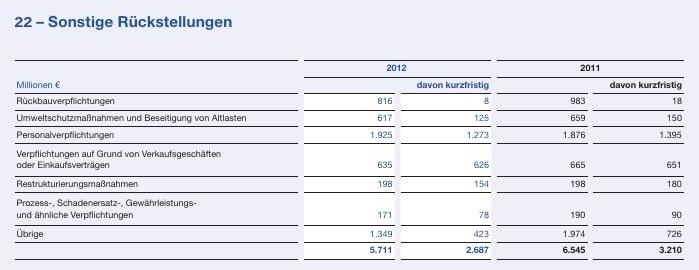table: (0, 0, 699, 270)
